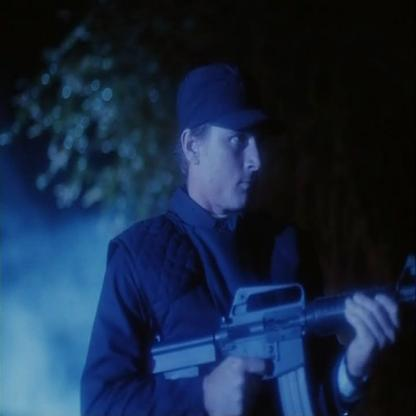gun: (144, 237, 409, 416)
